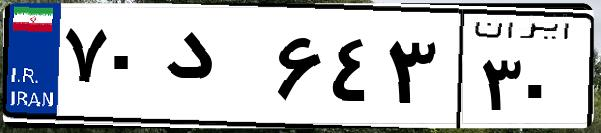0: (525, 38, 570, 115), (110, 28, 158, 98)
3: (385, 28, 445, 110), (475, 38, 525, 113)
4: (330, 28, 385, 110)
6: (270, 28, 330, 110)
7: (57, 26, 110, 100)
د: (158, 20, 270, 120)
